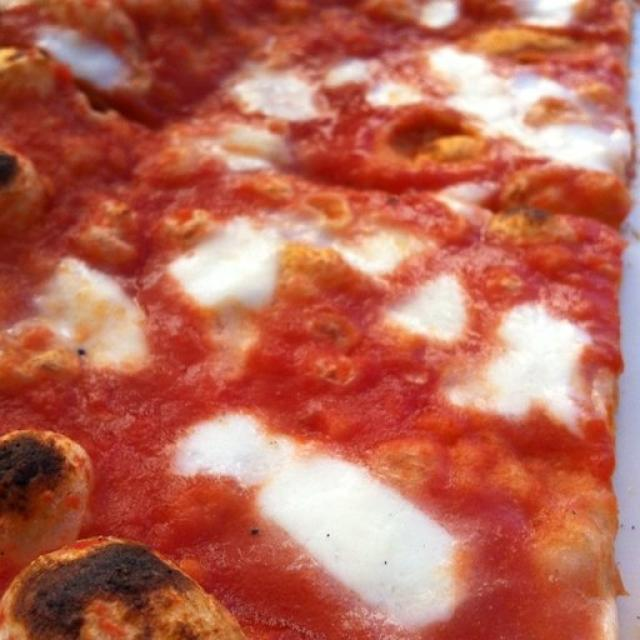Cheese: (194, 421, 446, 607), (459, 72, 621, 162), (40, 270, 136, 364), (493, 306, 575, 416), (188, 227, 273, 301), (44, 28, 128, 81), (337, 230, 424, 274), (333, 67, 418, 105), (246, 75, 319, 115), (402, 284, 459, 334), (216, 128, 272, 169), (449, 182, 497, 218), (512, 0, 576, 20)
Pizza: (0, 0, 620, 638)
